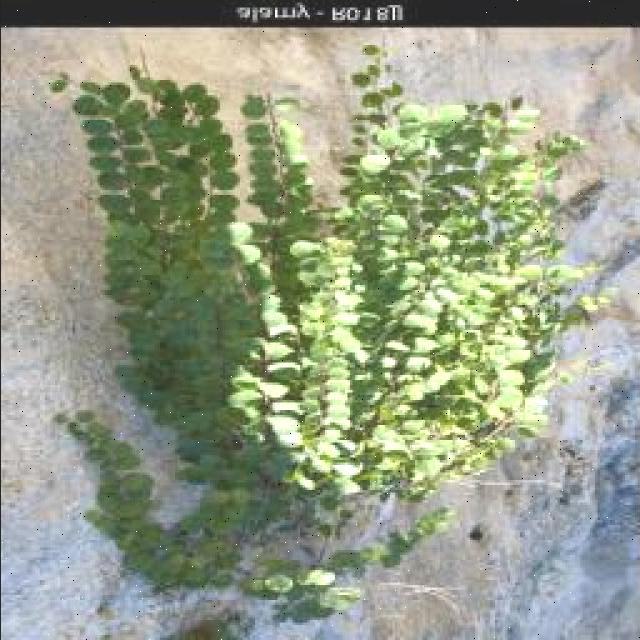vegetation: (198, 81, 607, 567), (48, 43, 269, 461)
